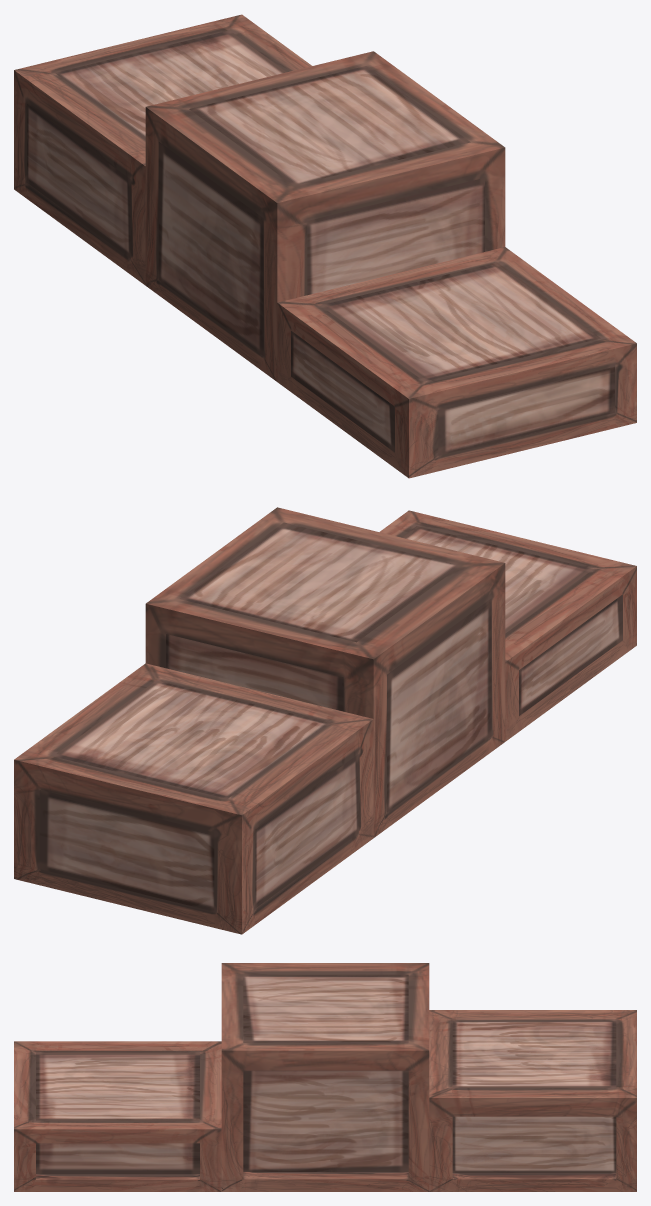
File: WinningPlaceBlocks.glb
3 views of the same model, one above another, from view 1: azimuth 30°, elevation 25°; view 2: azimuth 150°, elevation 25°; view 3: azimuth 270°, elevation 25° (orthographic). The views are drawn at different scales.
Parts seen in each view (by area): view 1: WInning_Place_Blocks; view 2: WInning_Place_Blocks; view 3: WInning_Place_Blocks.
Part boxes in pixels (<box>): WInning_Place_Blocks: <box>14,14,636,478</box>; WInning_Place_Blocks: <box>14,507,636,934</box>; WInning_Place_Blocks: <box>14,963,636,1191</box>.
Bounding box in the file's own units: 3 × 2.25 × 9.
1 material, 1 textured.
